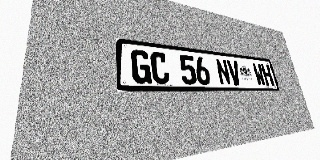5: (179, 54, 198, 85)
6: (193, 56, 211, 85)
C: (150, 51, 170, 84)
G: (130, 49, 152, 84)
H: (260, 64, 274, 86)
N: (215, 58, 232, 85)
V: (226, 60, 242, 85)
W: (252, 63, 266, 86)
